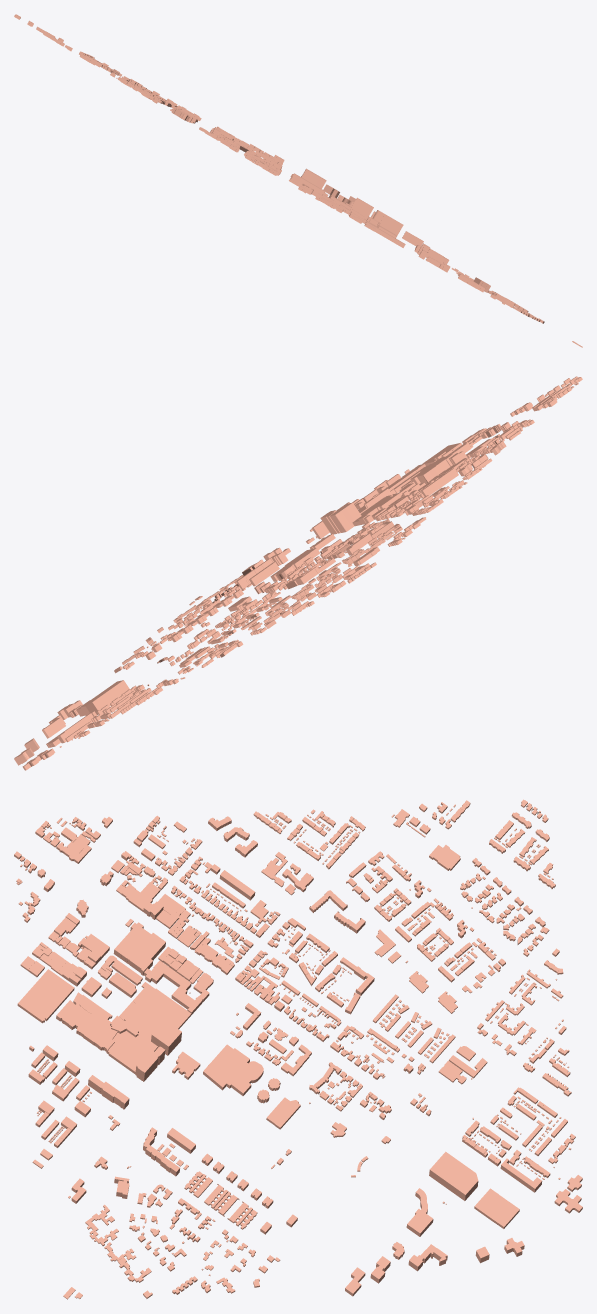
3 views of the same model, one above another, from view 1: azimuth 30°, elevation 25°; view 2: azimuth 150°, elevation 25°; view 3: azimuth 270°, elevation 25° (orthographic). The views are drawn at different scales.
Size of the model in its own units: 1047 by 759 by 1270.
